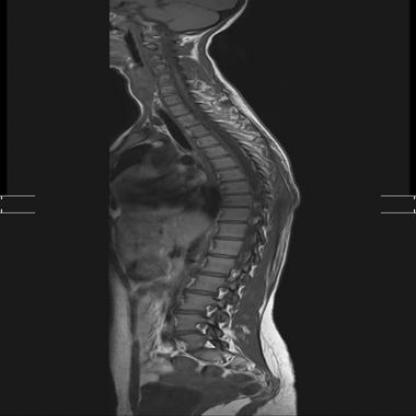Disc Bulgerotation: (223, 189, 251, 198), (222, 203, 250, 212), (220, 176, 248, 185), (155, 68, 171, 77)
